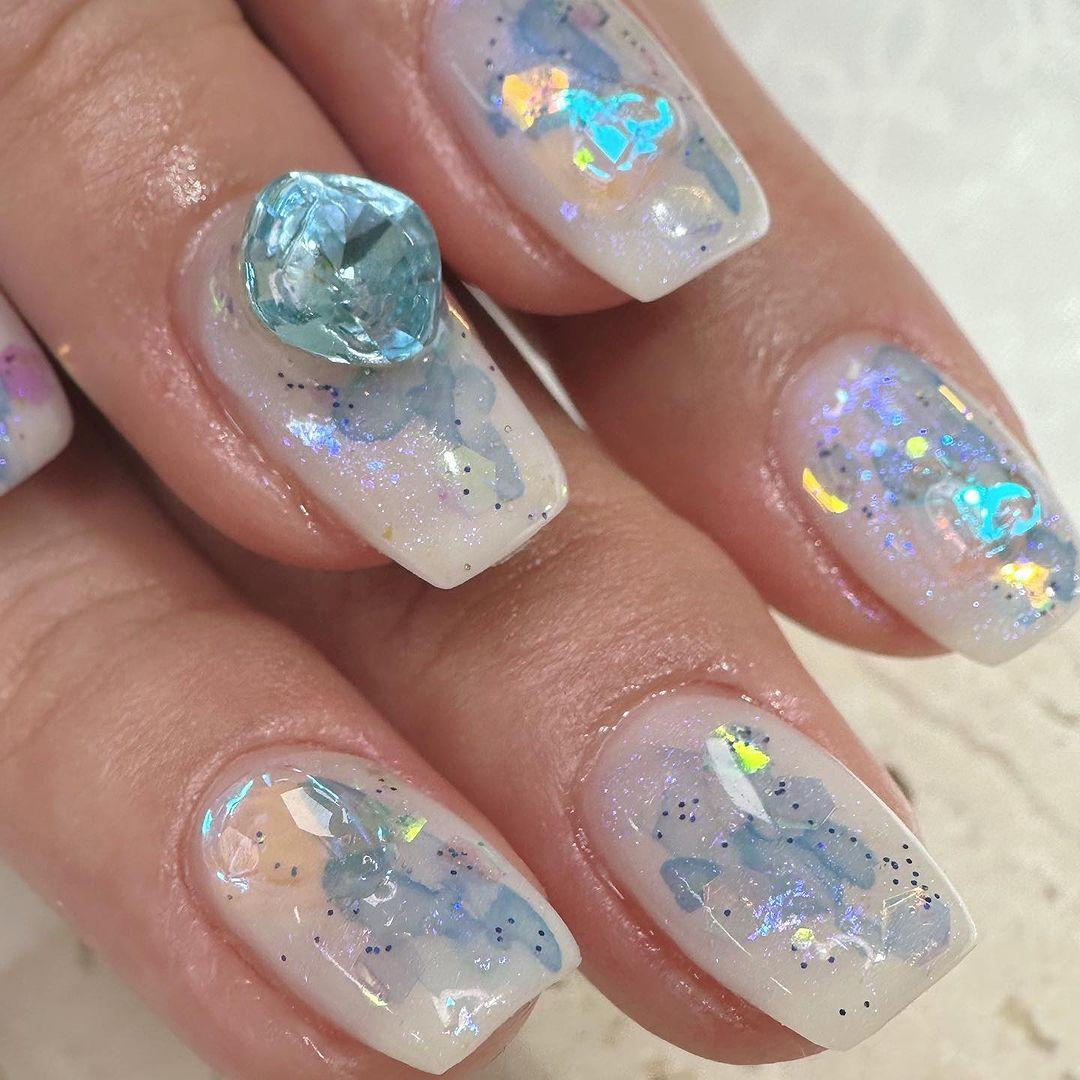nail: (170, 167, 571, 589), (574, 682, 977, 1059), (181, 738, 581, 1076), (770, 333, 1078, 666), (430, 0, 769, 301), (0, 288, 75, 497)
